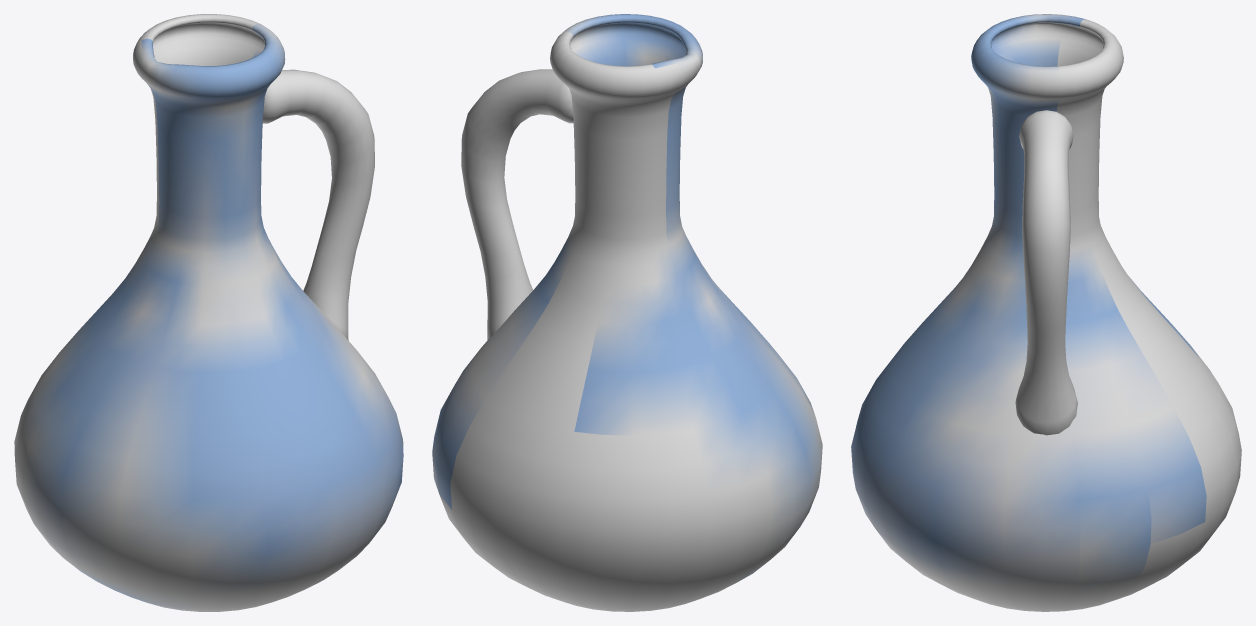
The model's file is MS_PROP_Kettle02.fbx.
3 views of the same model, side by side, from view 1: azimuth 30°, elevation 25°; view 2: azimuth 150°, elevation 25°; view 3: azimuth 270°, elevation 25° (orthographic).
Visible parts, largest first — view 1: MS_PROP_Kettle02; view 2: MS_PROP_Kettle02; view 3: MS_PROP_Kettle02.
Part boxes in pixels (x1,y1,x2,y2): MS_PROP_Kettle02: (14, 14, 403, 611); MS_PROP_Kettle02: (432, 14, 822, 611); MS_PROP_Kettle02: (851, 14, 1241, 611).
Size of the model in its own units: 0.1677 by 0.2572 by 0.1677.
